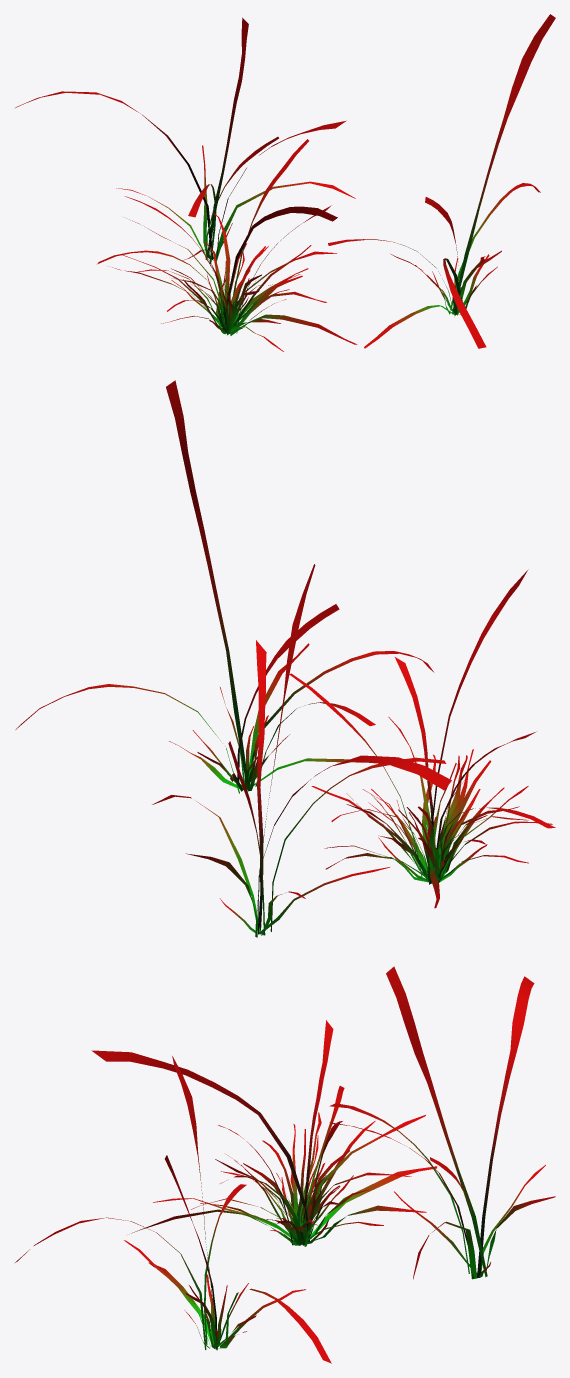
The model's file is rbEla_Var2_LOD0.fbx.
3 views of the same model, one above another, from view 1: azimuth 30°, elevation 25°; view 2: azimuth 150°, elevation 25°; view 3: azimuth 270°, elevation 25° (orthographic). The views are drawn at different scales.
Visible parts, largest first — view 1: _a8fe_Var2_LOD0; view 2: _a8fe_Var2_LOD0; view 3: _a8fe_Var2_LOD0.
Boxes of the visible parts, left/top/right/bottom form: _a8fe_Var2_LOD0: left=15, top=14, right=555, bottom=351; _a8fe_Var2_LOD0: left=15, top=380, right=555, bottom=937; _a8fe_Var2_LOD0: left=15, top=966, right=555, bottom=1363.
Bounding box in the file's own units: 95.8 × 62.19 × 90.71.
